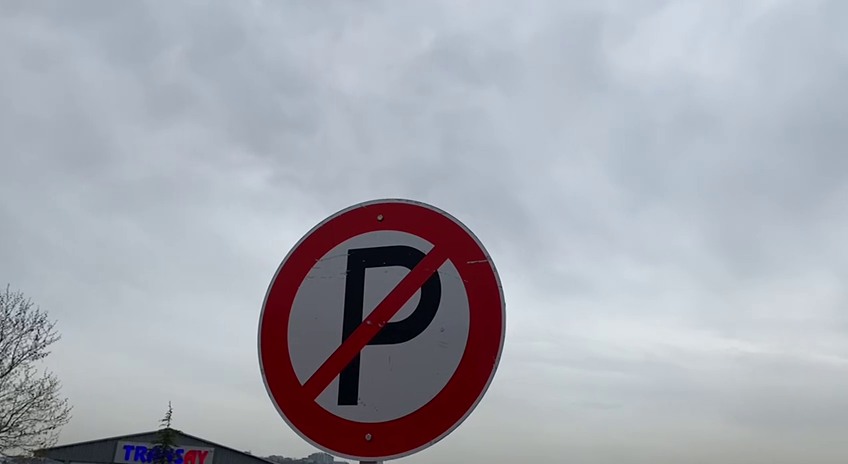noparking: (247, 195, 510, 460)
